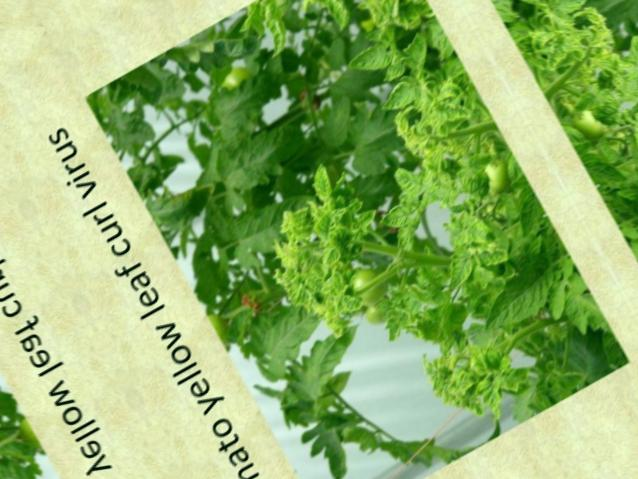Tomato leaf yellow virus: (336, 30, 396, 85), (431, 245, 484, 300), (373, 70, 431, 120), (420, 88, 476, 138), (249, 7, 299, 63), (448, 202, 499, 254), (472, 367, 519, 422), (299, 156, 345, 209), (376, 194, 427, 236), (461, 332, 505, 376), (388, 155, 428, 200), (429, 146, 469, 189), (317, 0, 362, 37), (332, 287, 374, 320), (319, 266, 355, 300), (308, 206, 341, 241), (458, 174, 493, 203), (280, 206, 312, 237), (314, 238, 345, 269)
